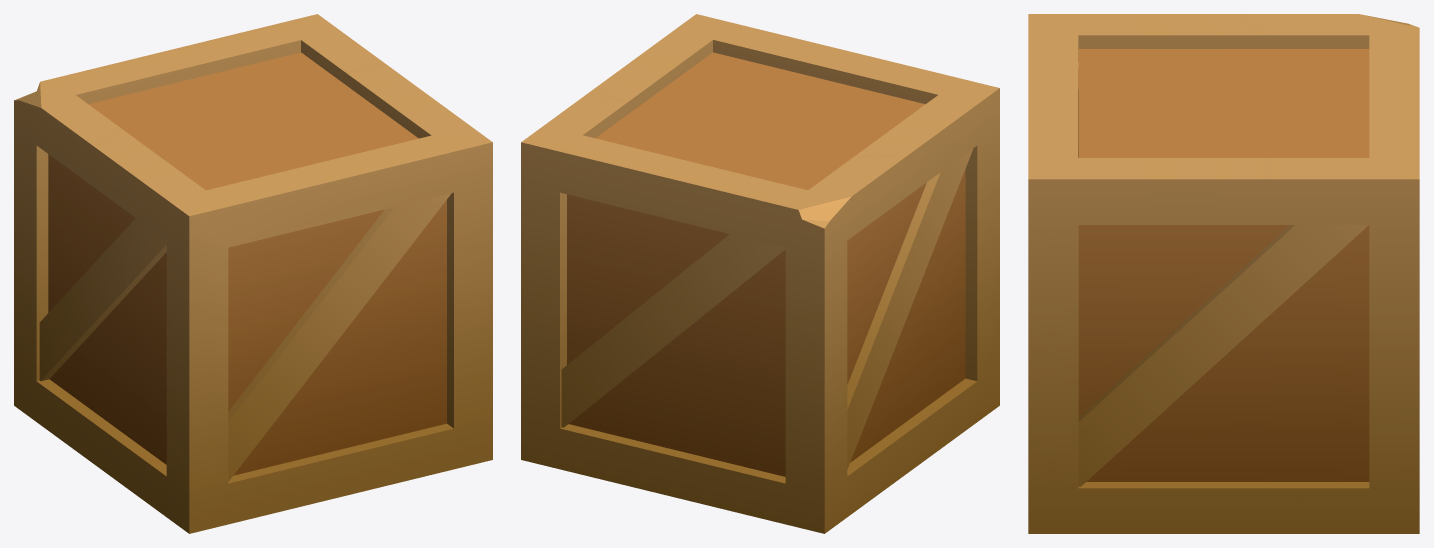
The model's file is Crate_B.fbx.
The picture shows the model from 3 angles, left to right: view 1: azimuth 30°, elevation 25°; view 2: azimuth 150°, elevation 25°; view 3: azimuth 270°, elevation 25°; orthographic projection. The views are drawn at different scales.
Visible parts, largest first — view 1: Crate_B; view 2: Crate_B; view 3: Crate_B.
Boxes of the visible parts, x1,y1,x2,y2 form: Crate_B: [14, 14, 492, 533]; Crate_B: [521, 14, 999, 533]; Crate_B: [1028, 14, 1419, 533].
Bounding box in the file's own units: 100 × 100 × 100.
1 material, 1 textured.
